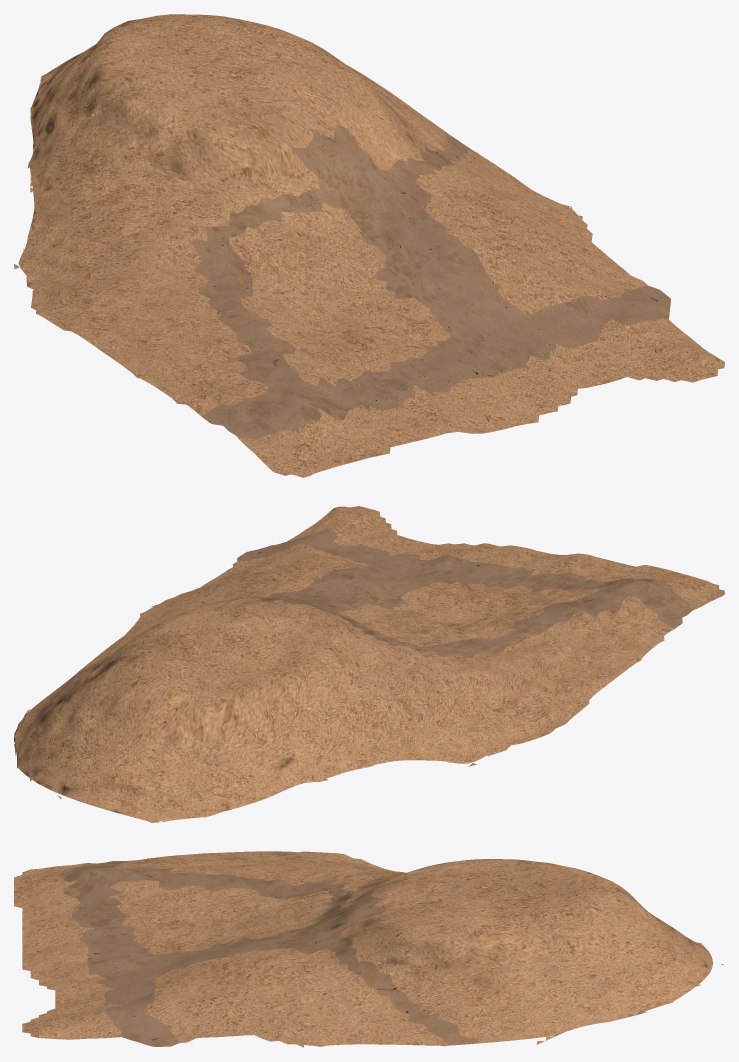
File: Field2.fbx
3 views of the same model, one above another, from view 1: azimuth 30°, elevation 25°; view 2: azimuth 150°, elevation 25°; view 3: azimuth 270°, elevation 25° (orthographic). The views are drawn at different scales.
Visible parts, largest first — view 1: LV_Campagna_Mountain_SM_HSH; view 2: LV_Campagna_Mountain_SM_HSH; view 3: LV_Campagna_Mountain_SM_HSH.
Boxes of the visible parts, x1,y1,x2,y2 form: LV_Campagna_Mountain_SM_HSH: (14, 14, 724, 477); LV_Campagna_Mountain_SM_HSH: (14, 506, 724, 822); LV_Campagna_Mountain_SM_HSH: (14, 851, 723, 1047).
Bounding box in the file's own units: 1237334 × 263431 × 1987427.
Materials: 2 (2 with a texture image).
